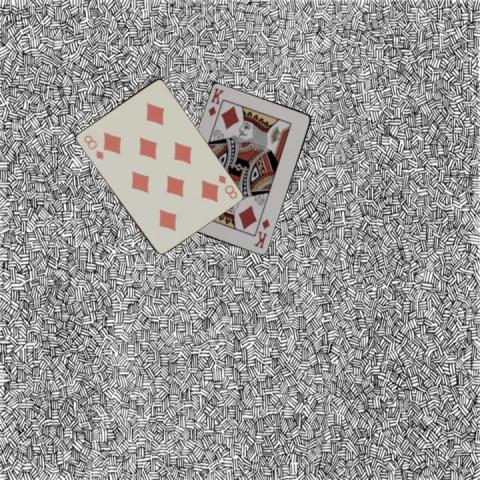8d: (80, 132, 105, 161), (214, 171, 238, 201)
Kd: (252, 216, 272, 250), (206, 85, 226, 118)
